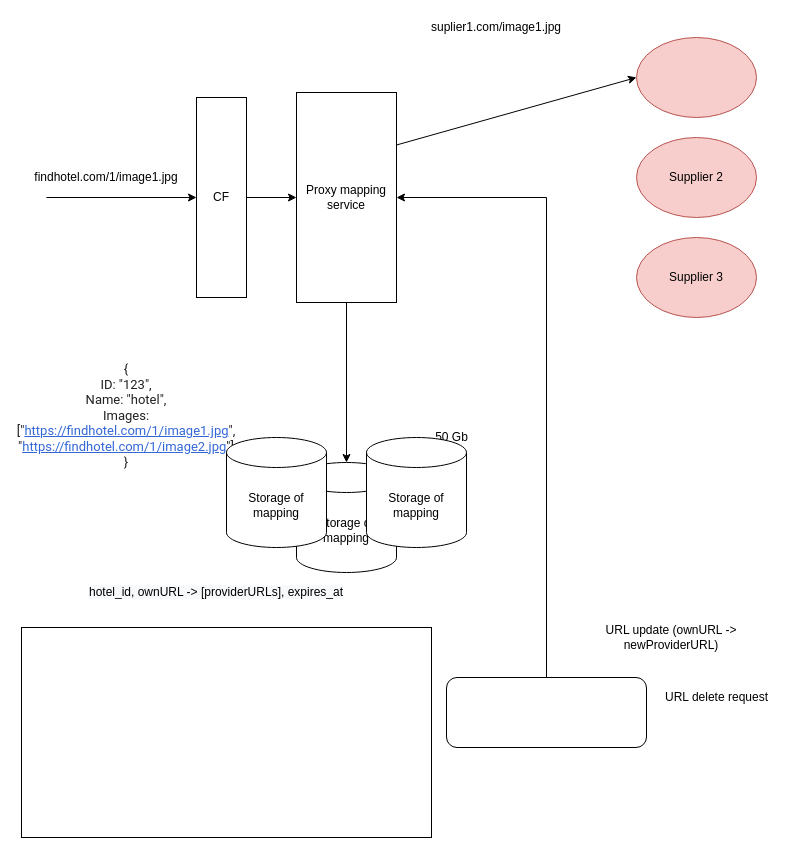
The diagram is 803 pixels wide and 855 high, and some of its shapes have lost their labels. The shapes that lost their labels are listed below. From the top down, each one's centre as x and y in pixels, then its label:
[696,77]: Supplier 1
[226,732]: OwnURL, ProviderURL Index by own URL
[546,712]: Updating content service
